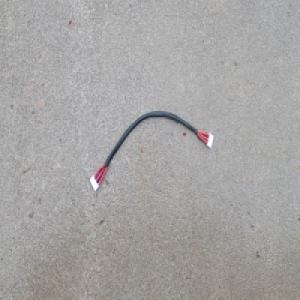Wire: (88, 108, 215, 193)
